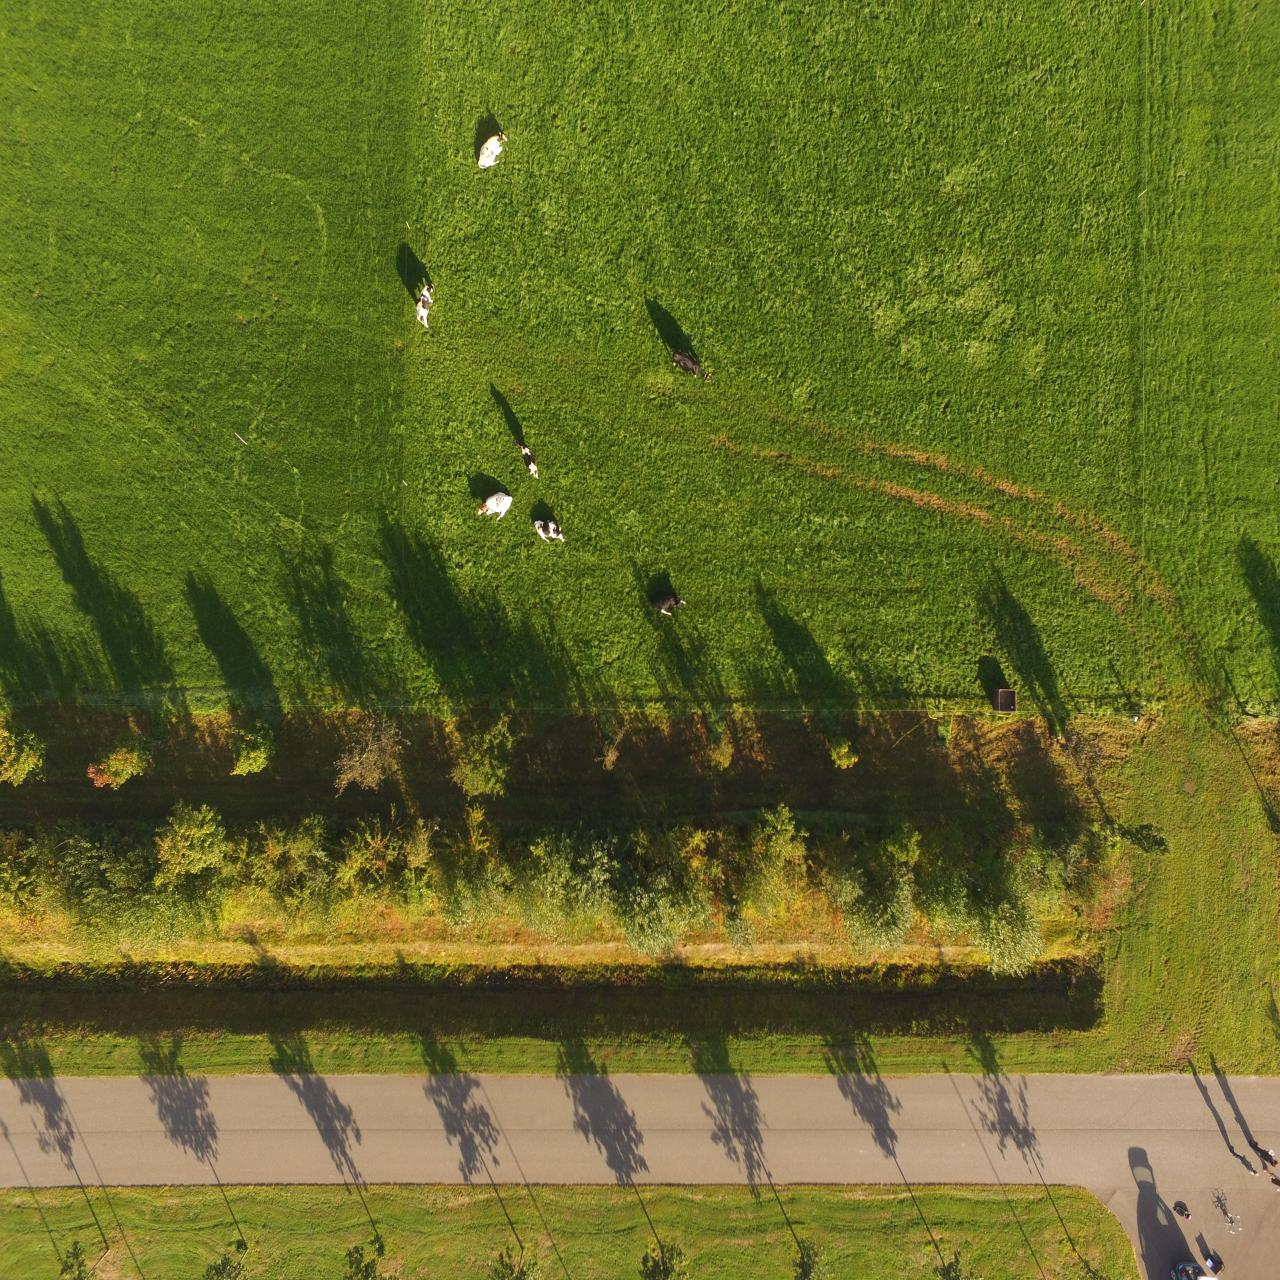cow: (644, 574, 689, 621), (667, 347, 715, 390), (474, 125, 509, 172), (475, 486, 515, 525), (411, 277, 437, 332), (531, 513, 566, 547), (516, 437, 543, 476)
